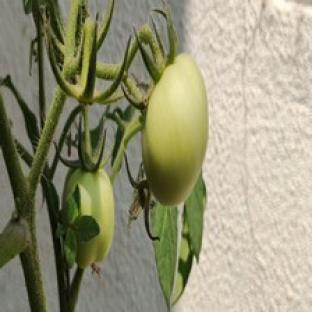Tomato: (143, 55, 207, 206), (63, 169, 114, 268)
